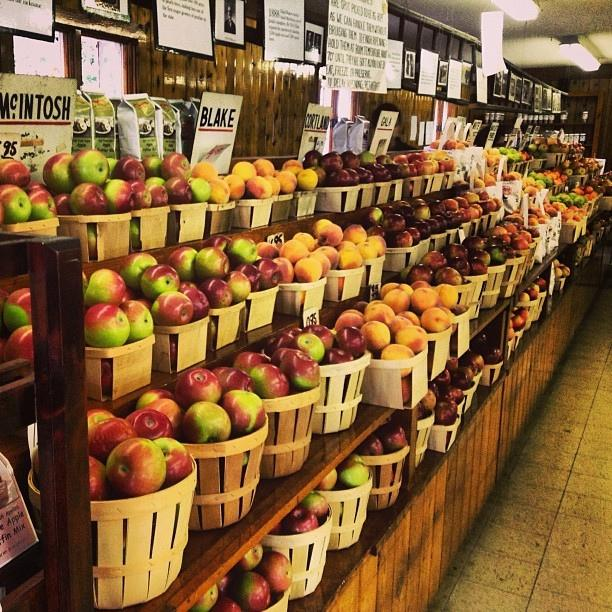apple: (106, 437, 166, 496), (89, 417, 138, 467), (218, 390, 266, 438), (152, 437, 192, 490), (84, 302, 130, 348), (183, 401, 231, 444), (175, 368, 223, 411), (250, 550, 293, 594), (142, 399, 186, 441), (226, 571, 271, 612), (83, 268, 126, 308), (280, 350, 320, 391), (119, 252, 159, 292), (150, 290, 193, 326), (118, 300, 153, 343), (140, 264, 180, 301), (70, 149, 110, 186), (132, 408, 176, 440), (43, 153, 76, 195), (250, 364, 290, 398), (3, 288, 32, 334), (69, 182, 108, 216), (4, 325, 34, 369), (1, 184, 32, 224), (102, 178, 136, 214), (194, 246, 229, 280), (288, 332, 325, 364), (27, 186, 58, 222), (166, 247, 198, 281), (281, 506, 319, 534), (197, 278, 232, 308), (335, 326, 366, 359), (89, 456, 111, 502), (0, 158, 31, 190), (183, 288, 210, 324), (377, 422, 407, 454), (337, 458, 368, 488), (226, 235, 258, 264), (252, 258, 280, 291), (233, 351, 271, 375), (110, 157, 146, 182), (302, 324, 334, 352), (187, 583, 218, 611), (136, 389, 177, 410), (161, 152, 190, 181), (232, 264, 262, 292), (300, 490, 328, 520), (125, 179, 152, 210), (234, 542, 262, 570), (165, 177, 192, 205), (226, 368, 255, 393), (434, 396, 458, 426), (404, 263, 434, 286), (420, 251, 448, 274), (356, 433, 384, 456), (88, 408, 116, 430), (360, 207, 385, 231), (433, 266, 462, 286), (483, 244, 507, 267), (203, 235, 232, 254), (469, 328, 490, 354), (208, 596, 242, 612), (269, 348, 296, 368), (382, 213, 407, 234), (321, 152, 344, 174), (141, 156, 163, 179), (54, 194, 78, 215), (216, 570, 235, 596), (394, 206, 416, 228), (467, 248, 491, 268), (464, 352, 485, 374), (317, 467, 337, 490), (410, 220, 432, 240), (448, 257, 471, 276), (101, 358, 113, 394), (191, 162, 218, 178), (481, 345, 502, 365), (443, 386, 464, 406), (150, 184, 168, 207), (302, 150, 322, 170), (446, 242, 468, 260), (352, 167, 374, 184), (25, 180, 48, 196), (390, 231, 413, 247), (325, 348, 348, 364), (462, 236, 486, 251), (309, 166, 326, 187), (356, 150, 377, 167), (433, 369, 451, 388), (404, 226, 421, 246), (341, 152, 360, 168), (282, 327, 303, 341), (424, 218, 441, 235), (414, 202, 430, 220), (428, 200, 446, 216), (470, 259, 488, 275), (512, 230, 532, 244), (178, 280, 198, 294), (106, 158, 119, 179), (343, 169, 359, 186), (385, 164, 402, 180), (441, 212, 456, 230), (212, 366, 234, 378), (144, 176, 166, 188), (438, 156, 454, 172), (457, 367, 474, 382), (373, 168, 391, 182), (512, 316, 526, 332), (532, 277, 546, 293), (510, 238, 528, 250), (443, 198, 458, 212), (398, 162, 410, 179), (464, 192, 480, 204), (524, 287, 538, 300), (407, 153, 425, 163), (484, 199, 497, 212), (446, 359, 458, 373), (460, 208, 471, 223), (422, 160, 433, 175), (468, 206, 480, 219), (475, 190, 489, 201), (501, 223, 517, 232), (500, 234, 512, 246), (420, 151, 434, 160), (518, 292, 530, 302), (508, 328, 514, 342)
